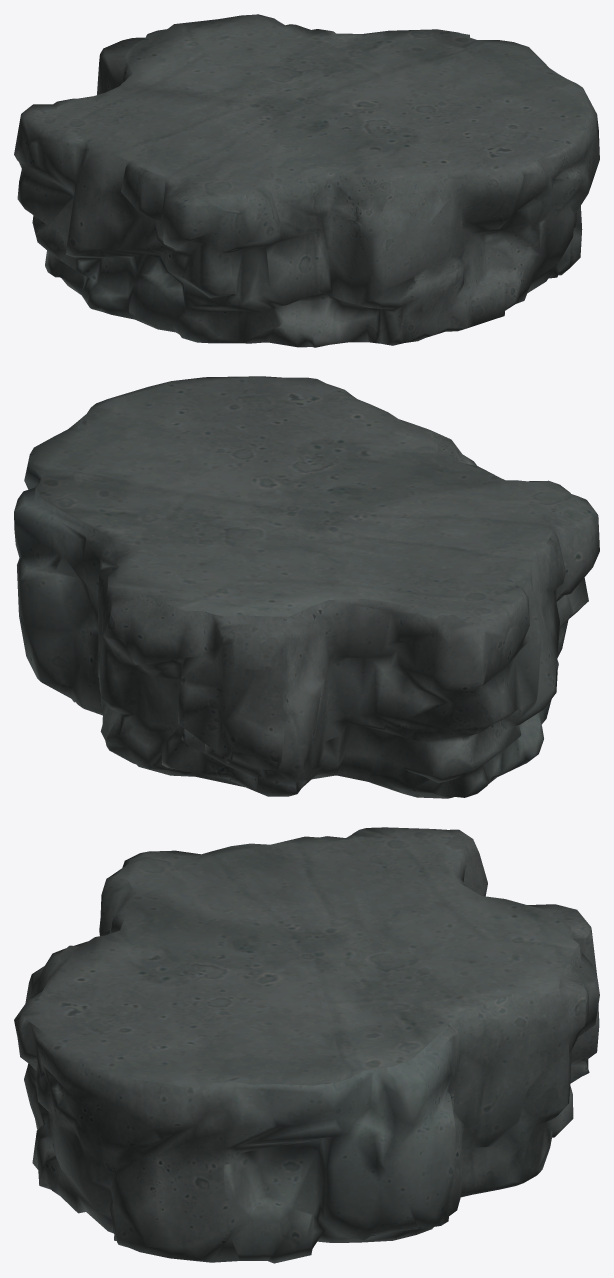
File: Cliff_Rock_05.fbx
3 renders of one model, top to bottom at view 1: azimuth 30°, elevation 25°; view 2: azimuth 150°, elevation 25°; view 3: azimuth 270°, elevation 25°, orthographic. The views are drawn at different scales.
Parts seen in each view (by area): view 1: SM_Cliff_Rock_05.mo; view 2: SM_Cliff_Rock_05.mo; view 3: SM_Cliff_Rock_05.mo.
Boxes of the visible parts, x1,y1,x2,y2 form: SM_Cliff_Rock_05.mo: (14, 14, 599, 347); SM_Cliff_Rock_05.mo: (14, 376, 599, 798); SM_Cliff_Rock_05.mo: (14, 827, 599, 1263).
Size of the model in its own units: 1030 by 354 by 948.
